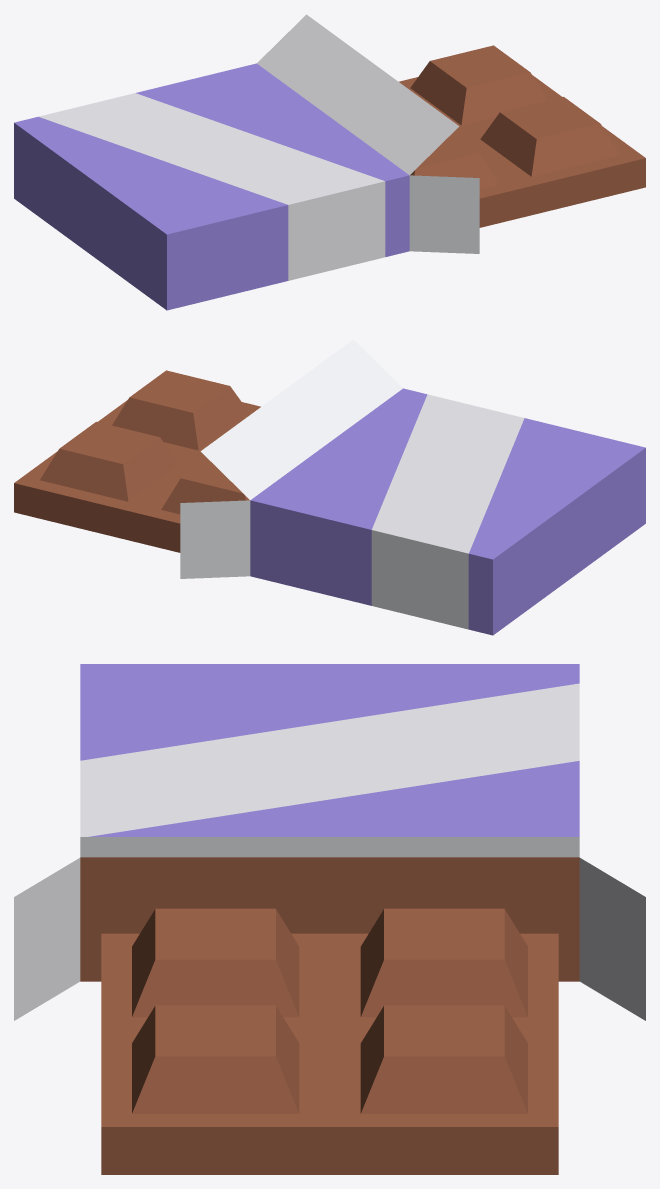
File: chocolateWrapper.fbx
3 renders of one model, top to bottom at view 1: azimuth 30°, elevation 25°; view 2: azimuth 150°, elevation 25°; view 3: azimuth 270°, elevation 25°, orthographic. The views are drawn at different scales.
Visible parts, largest first — view 1: chocolateWrapper; view 2: chocolateWrapper; view 3: chocolateWrapper.
Part boxes in pixels (x1,y1,x2,y2): chocolateWrapper: (14, 14, 645, 310); chocolateWrapper: (14, 339, 645, 635); chocolateWrapper: (14, 664, 645, 1174).
Size of the model in its own units: 2.92 by 0.6495 by 2.02.
